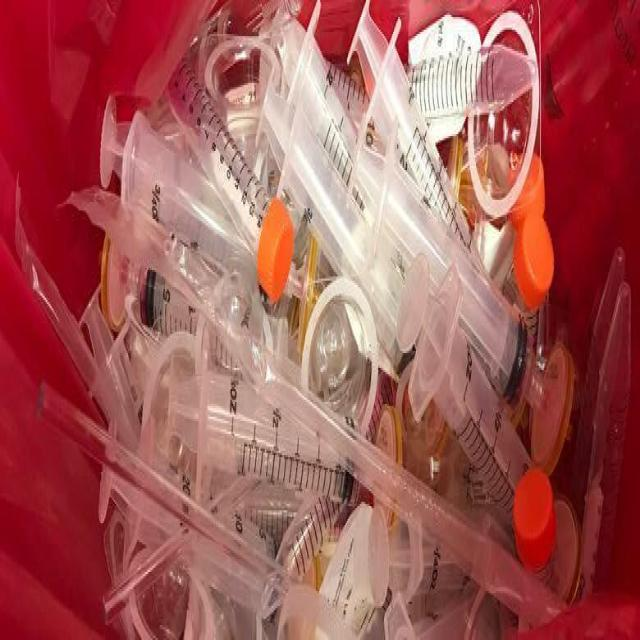B3: (94, 98, 312, 314), (260, 74, 427, 349), (402, 257, 557, 540), (162, 338, 373, 517), (100, 417, 282, 623)
